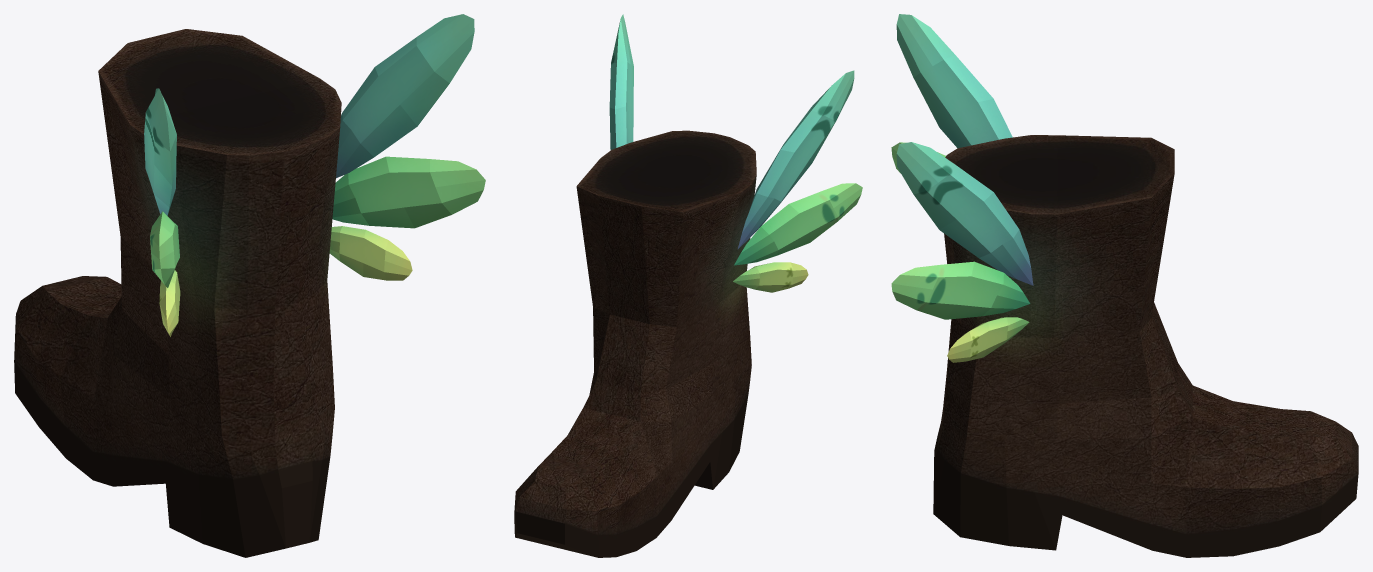
The model's file is speedBoost.fbx.
3 renders of one model, left to right at view 1: azimuth 30°, elevation 25°; view 2: azimuth 150°, elevation 25°; view 3: azimuth 270°, elevation 25°, orthographic. The views are drawn at different scales.
Parts seen in each view (by area): view 1: boot1, LWingcombo1, LWingcombo; view 2: boot1, LWingcombo, LWingcombo1; view 3: boot1, LWingcombo1, LWingcombo.
Part boxes in pixels (left/top/right/bottom): boot1: left=14, top=29, right=341, bottom=557; LWingcombo1: left=329, top=14, right=485, bottom=280; LWingcombo: left=144, top=88, right=180, bottom=336; boot1: left=514, top=130, right=756, bottom=557; LWingcombo: left=733, top=70, right=862, bottom=292; LWingcombo1: left=609, top=14, right=633, bottom=149; boot1: left=933, top=135, right=1358, bottom=557; LWingcombo1: left=891, top=142, right=1033, bottom=362; LWingcombo: left=891, top=14, right=1012, bottom=173.
Bounding box in the file's own units: 16.04 × 25.07 × 23.27.
2 materials, 2 textured.
